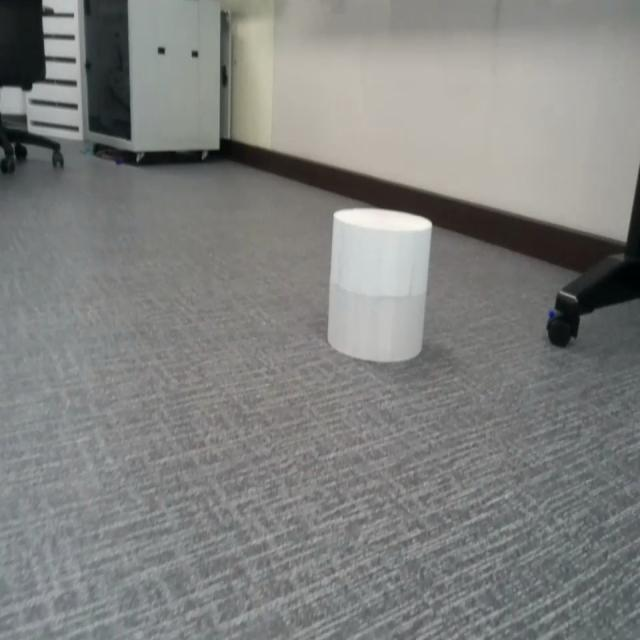cylinder: (328, 208, 432, 363)
